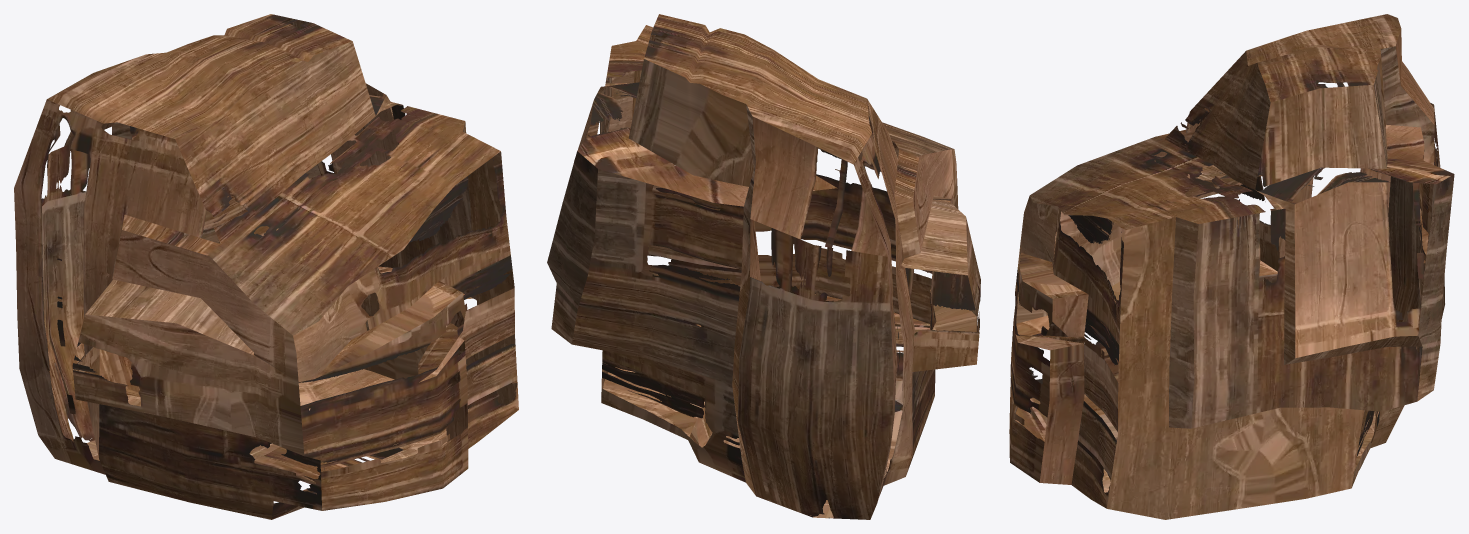
3 views of the same model, side by side, from view 1: azimuth 30°, elevation 25°; view 2: azimuth 150°, elevation 25°; view 3: azimuth 270°, elevation 25° (orthographic). The views are drawn at different scales.
Visible parts, largest first — view 1: SM_Chair_Table_01v2_LOD0; view 2: SM_Chair_Table_01v2_LOD0; view 3: SM_Chair_Table_01v2_LOD0.
Boxes of the visible parts, box(x1,y1,x2,y2) form: SM_Chair_Table_01v2_LOD0: box(14, 14, 518, 519); SM_Chair_Table_01v2_LOD0: box(547, 14, 980, 519); SM_Chair_Table_01v2_LOD0: box(1009, 14, 1454, 519).
Size of the model in its own units: 0.3355 by 0.3285 by 0.3106.
